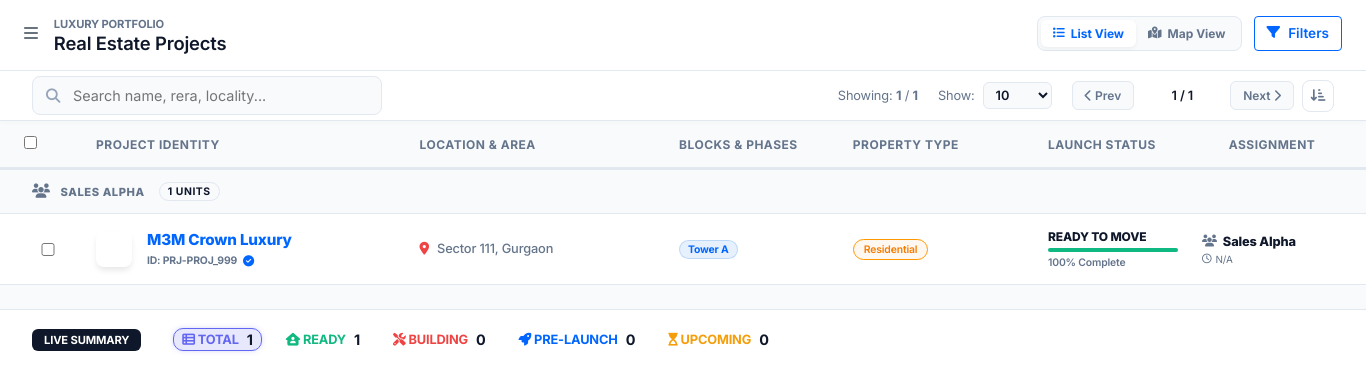
it: ProjectsPageV2 - Action Toolbar Alignment (Broadcast, Promote, Publish) › renders project row and reveals Broadcast, Promote, and Publish toolbar action buttons on selection
Expected: the text "M3M Crown Luxury" is shown, [147, 231, 292, 250]
Select the project via checkbox
Click the checkbox next to "M3M Crown Luxury" at (48, 249), box [24, 242, 72, 256]
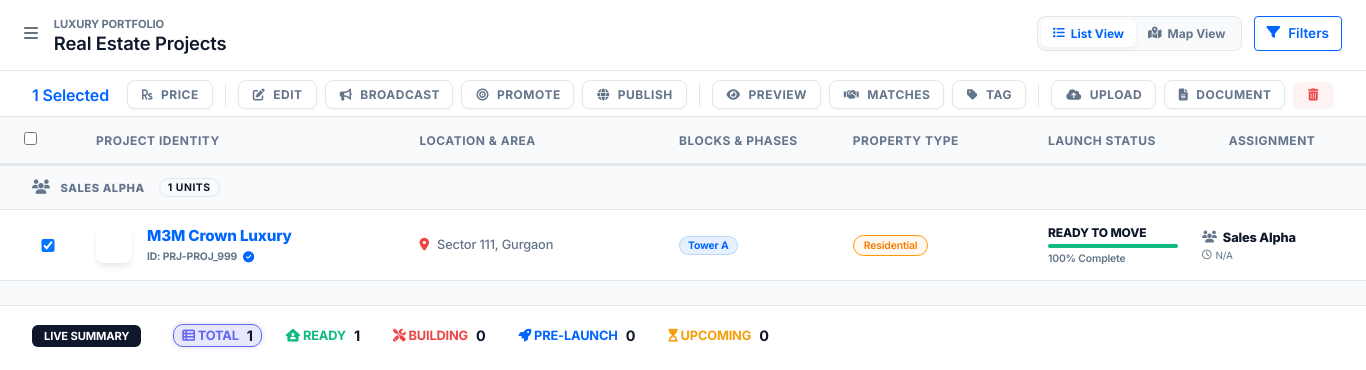
Now the text "1 Selected" is shown, box [32, 84, 109, 104]
Now the button "Broadcast" is shown, box [325, 80, 454, 109]
Now the button "Promote" is shown, box [461, 80, 574, 109]
